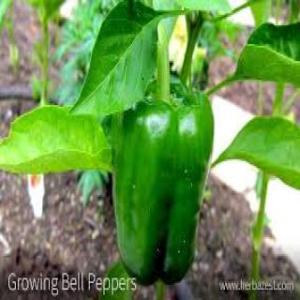bell_pepper: (105, 70, 216, 294)
